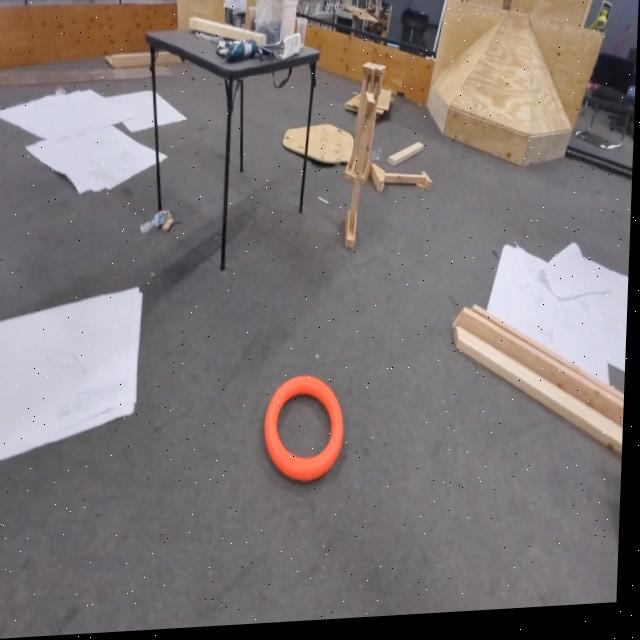note: (269, 382, 351, 491)
